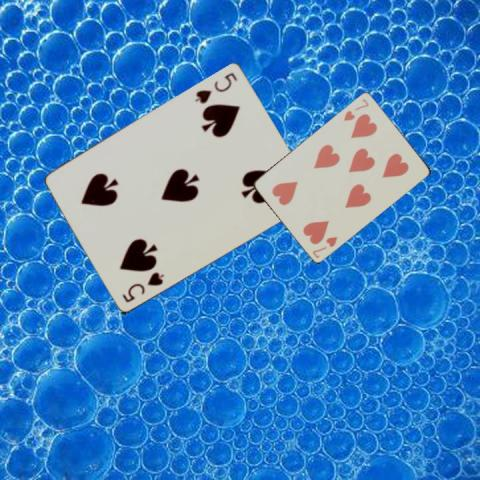5s: (192, 68, 240, 104), (119, 269, 166, 304)
7h: (341, 95, 370, 122), (309, 234, 339, 260)
